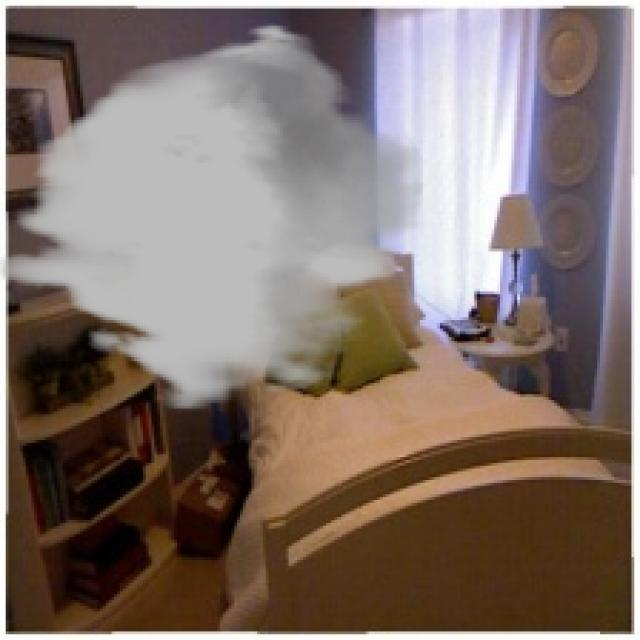Smoke: (0, 22, 423, 412)
